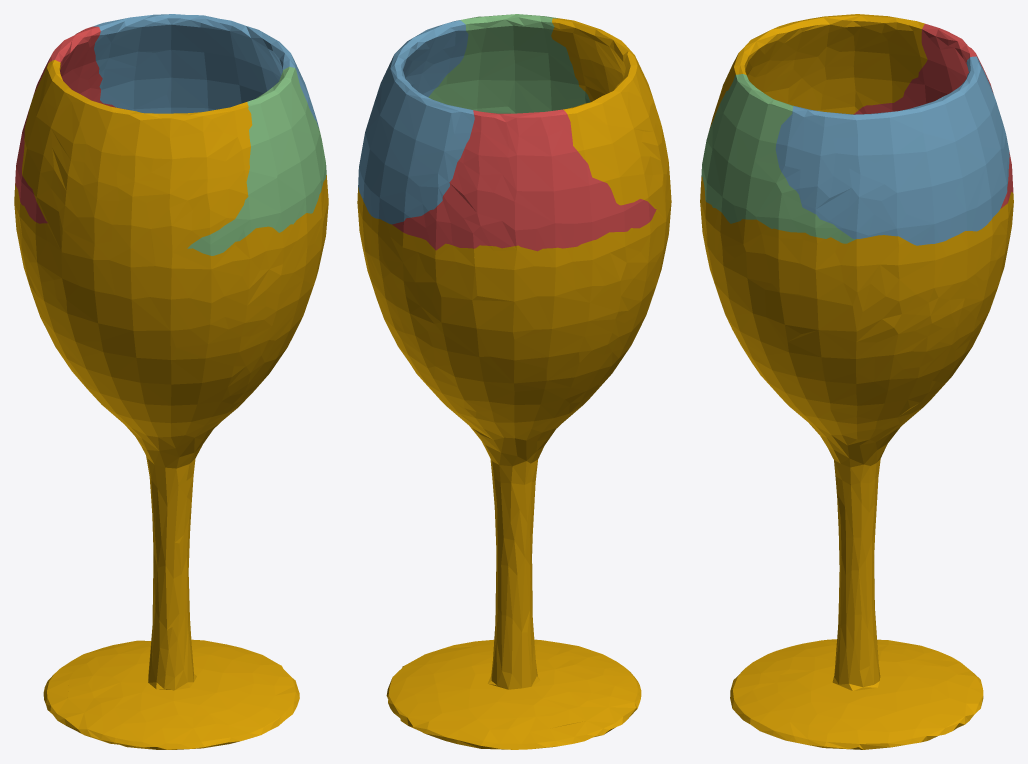
The model's file is fractured_60_4pcs.glb.
The picture shows the model from 3 angles, left to right: view 1: azimuth 30°, elevation 25°; view 2: azimuth 150°, elevation 25°; view 3: azimuth 270°, elevation 25°; orthographic projection.
Parts seen in each view (by area): view 1: piece_0.obj, piece_2.obj, piece_3.obj, piece_1.obj; view 2: piece_0.obj, piece_1.obj, piece_2.obj, piece_3.obj; view 3: piece_0.obj, piece_2.obj, piece_3.obj, piece_1.obj.
Part boxes in pixels (left/top/right/bottom): piece_0.obj: left=14, top=60, right=328, bottom=749; piece_2.obj: left=93, top=14, right=318, bottom=127; piece_3.obj: left=187, top=66, right=326, bottom=255; piece_1.obj: left=15, top=26, right=124, bottom=223; piece_0.obj: left=357, top=18, right=671, bottom=749; piece_1.obj: left=392, top=109, right=656, bottom=251; piece_2.obj: left=358, top=20, right=474, bottom=224; piece_3.obj: left=428, top=14, right=590, bottom=113; piece_0.obj: left=700, top=14, right=1013, bottom=749; piece_2.obj: left=775, top=56, right=1009, bottom=245; piece_3.obj: left=701, top=74, right=856, bottom=243; piece_1.obj: left=853, top=24, right=1013, bottom=208.
Bounding box in the file's own units: 0.4496 × 1 × 0.4495.
